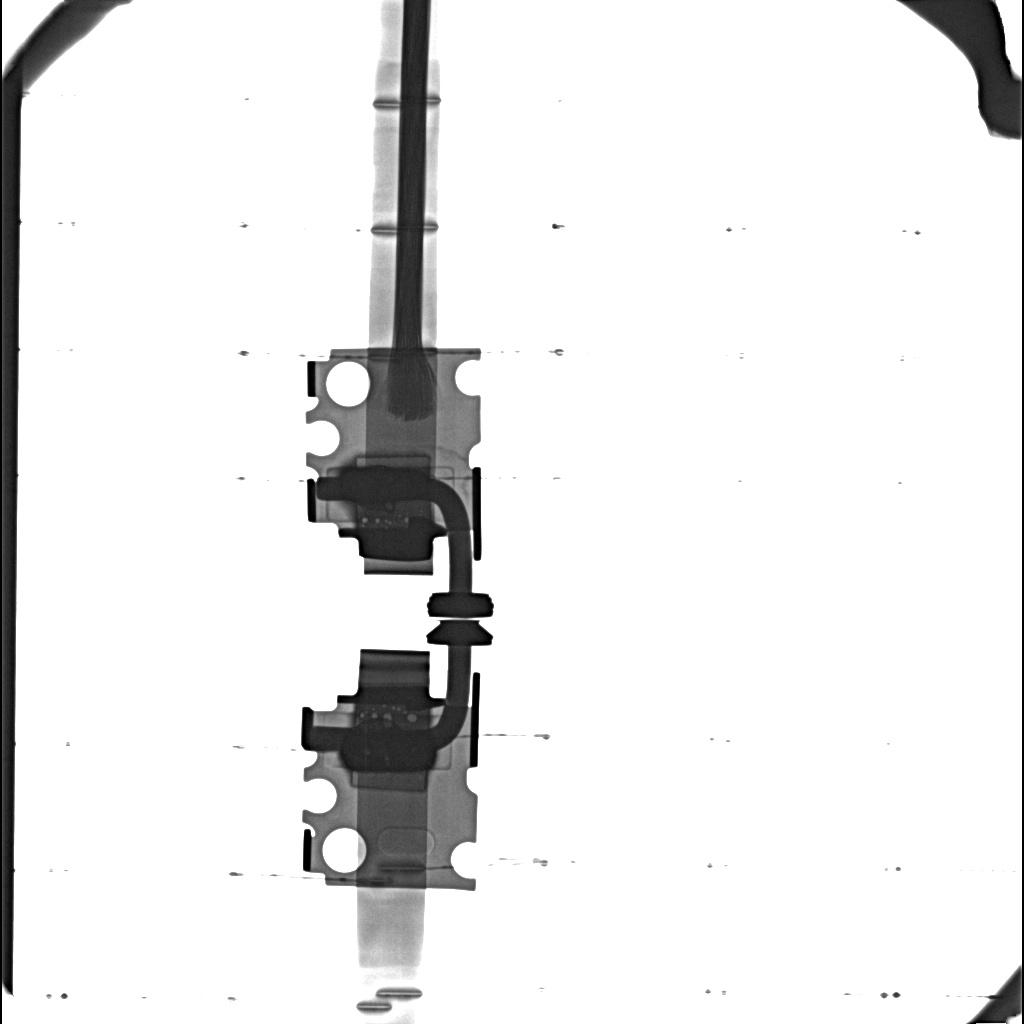defect: (342, 728, 436, 771), (337, 466, 428, 505), (350, 771, 428, 792), (354, 455, 432, 475), (407, 714, 417, 722), (383, 713, 391, 719), (372, 713, 378, 719)
